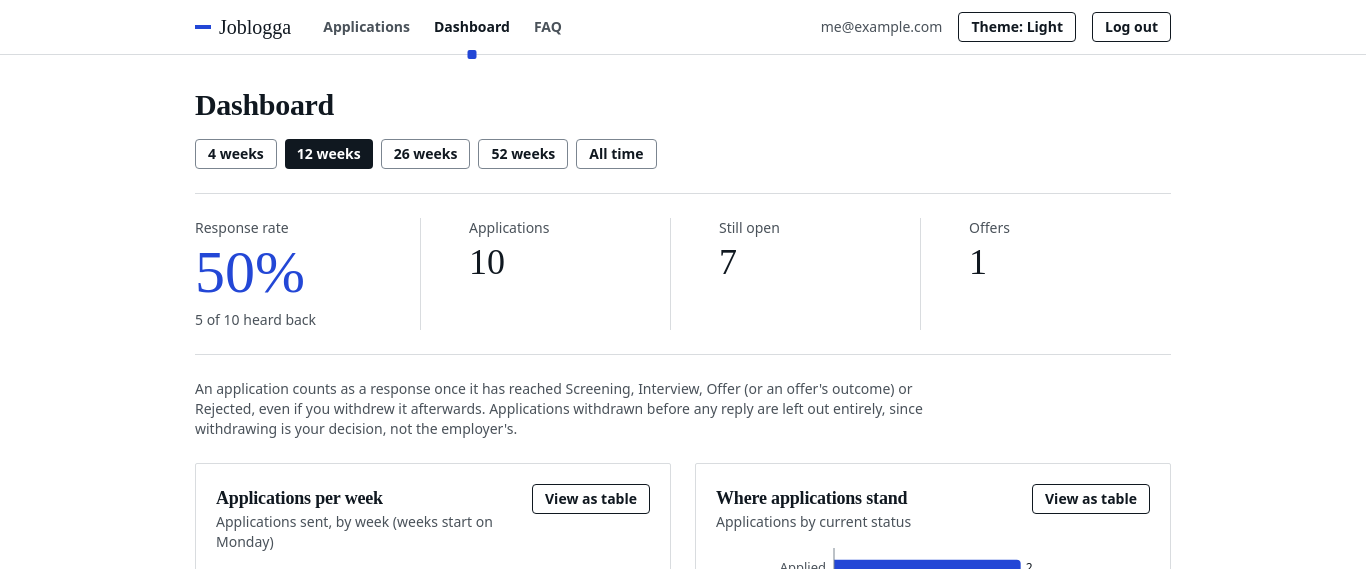
Test: time range › ignores a slow response that a newer choice has outdated
This screenshot has width=1366, height=569.
Click the button "4 weeks" at (236, 154), box top-left (195, 139), bottom-right (277, 169)
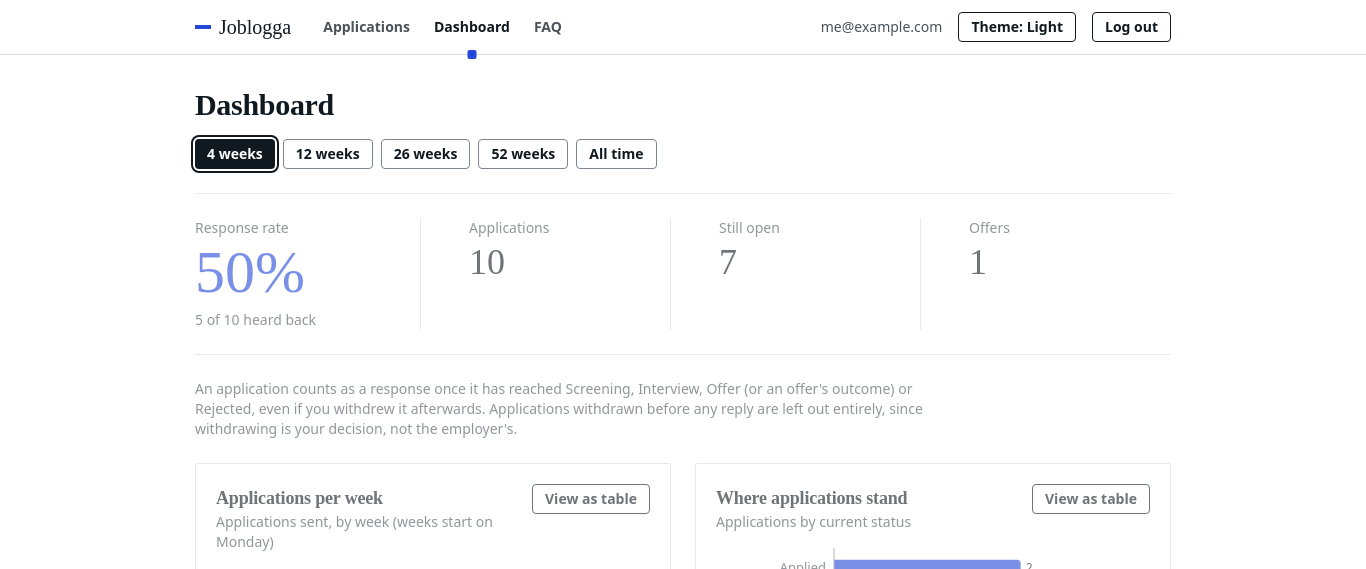
Click the button "All time" at (616, 154), box top-left (576, 139), bottom-right (656, 169)
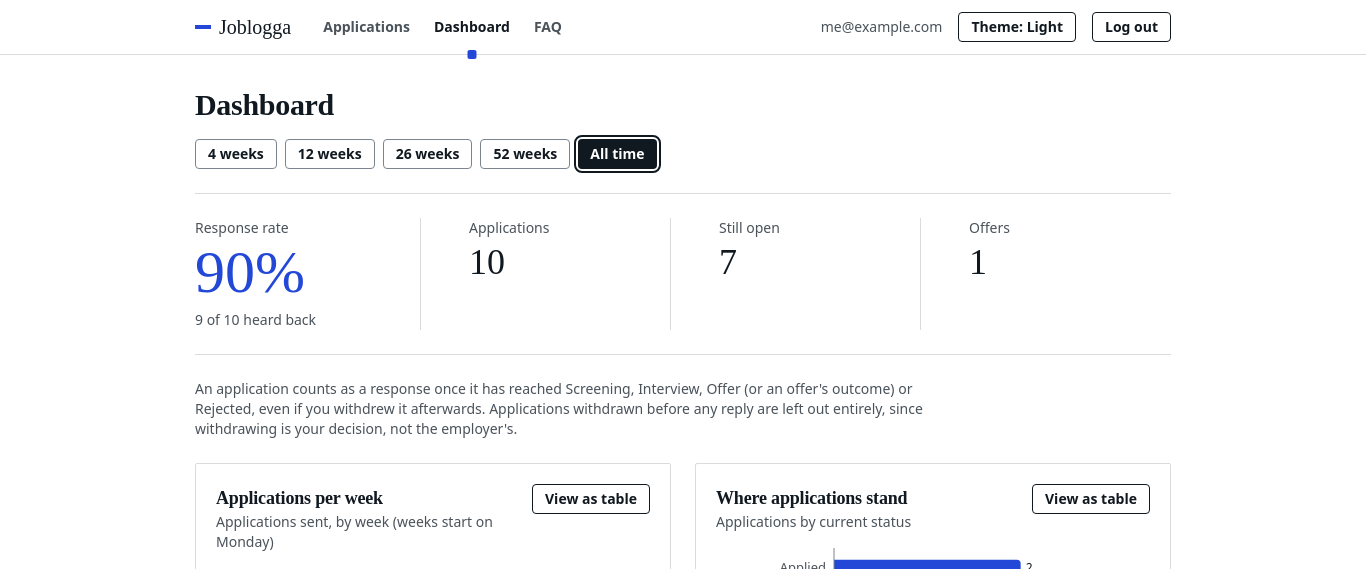
Result: the text "90%" is shown at top-left (195, 239), bottom-right (305, 305)
